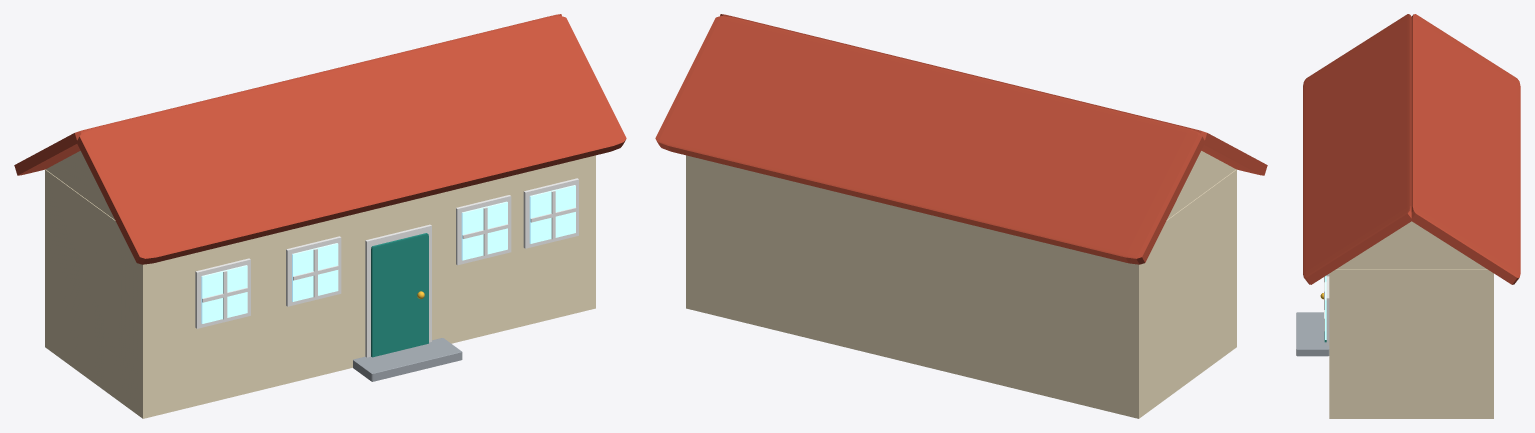
Rendered from house.glb.
3 views of the same model, side by side, from view 1: azimuth 30°, elevation 25°; view 2: azimuth 150°, elevation 25°; view 3: azimuth 270°, elevation 25° (orthographic). The views are drawn at different scales.
Parts seen in each view (by area): view 1: RoofSide-1, Walls, Door, Step, RoofSide1, Win0, Win2, Win3, Win1, Attic, DoorFrame, WinFrame0 (+3 smaller); view 2: Walls, RoofSide1, RoofSide-1, Attic; view 3: Walls, RoofSide1, RoofSide-1, Attic, Step, WinFrame3.
Boxes of the visible parts, x1,y1,x2,y2 form: RoofSide-1: (77,16,626,264); Walls: (45,155,595,418); Door: (371,233,428,357); Step: (353,338,462,381); RoofSide1: (14,14,561,175); Win0: (201,265,247,323); Win2: (461,201,507,260); Win3: (529,185,575,243); Win1: (292,243,338,301); Attic: (46,151,114,219); DoorFrame: (365,224,431,357); WinFrame0: (195,258,250,328); Walls: (686,155,1236,418); RoofSide1: (655,16,1204,264); RoofSide-1: (720,14,1267,175); Attic: (1167,151,1235,219); Walls: (1329,269,1493,418); RoofSide1: (1411,14,1520,284); RoofSide-1: (1303,14,1412,284); Attic: (1336,221,1486,269); Step: (1296,312,1329,356); WinFrame3: (1326,276,1329,345).
Size of the model in its own units: 8.6 by 4.31 by 4.08.
